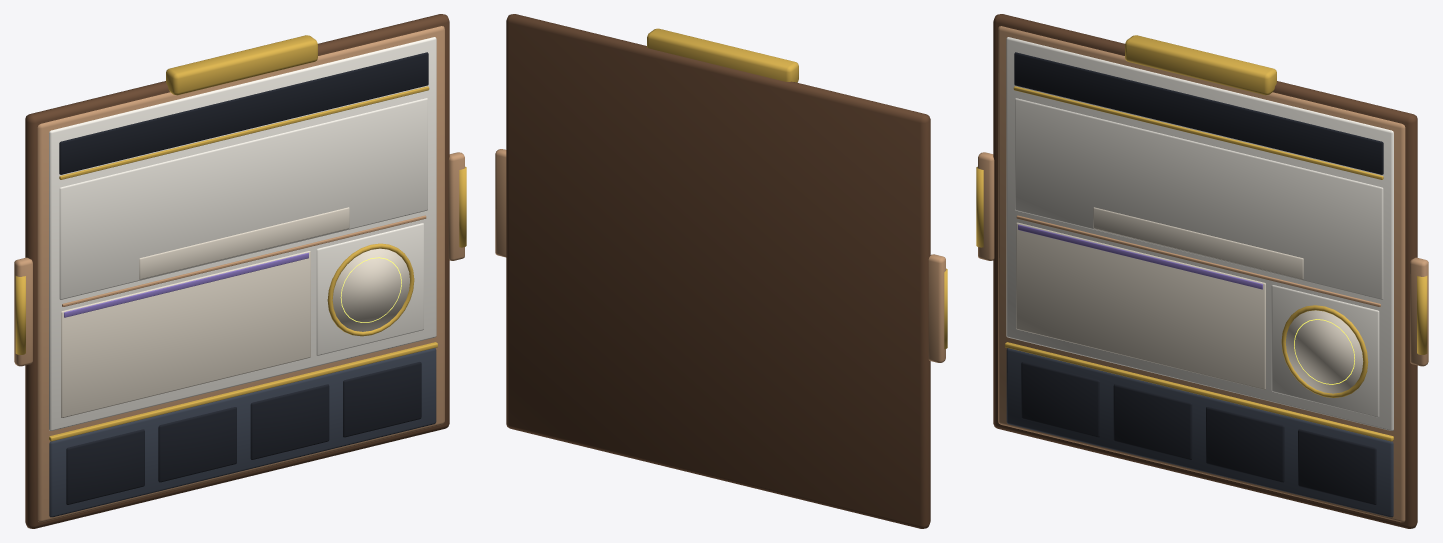
Rendered from Doc_DecisionPaper_Expanded.fbx.
The picture shows the model from 3 angles, left to right: view 1: azimuth 30°, elevation 25°; view 2: azimuth 150°, elevation 25°; view 3: azimuth 330°, elevation 25°; orthographic projection.
Visible parts, largest first — view 1: Folio_CreamCeramic, Folio_WarmBeige, Folio_CharcoalVisor, Folio_PaperWarm, Folio_WarmWood, Folio_DarkWood, Folio_FeltSlate, Folio_Brass, Folio_Researcher_Lavender; view 2: Folio_DarkWood, Folio_Brass, Folio_WarmWood; view 3: Folio_CreamCeramic, Folio_WarmBeige, Folio_CharcoalVisor, Folio_PaperWarm, Folio_WarmWood, Folio_DarkWood, Folio_FeltSlate, Folio_Brass, Folio_Researcher_Lavender.
Boxes of the visible parts, left/top/right/bottom form: Folio_CreamCeramic: left=59, top=98, right=427, bottom=355; Folio_WarmBeige: left=61, top=207, right=409, bottom=417; Folio_CharcoalVisor: left=59, top=52, right=428, bottom=504; Folio_PaperWarm: left=49, top=37, right=436, bottom=430; Folio_WarmWood: left=14, top=26, right=464, bottom=522; Folio_DarkWood: left=25, top=14, right=449, bottom=528; Folio_FeltSlate: left=49, top=348, right=436, bottom=517; Folio_Brass: left=15, top=35, right=466, bottom=441; Folio_Researcher_Lavender: left=64, top=252, right=308, bottom=317; Folio_DarkWood: left=506, top=14, right=930, bottom=528; Folio_Brass: left=647, top=28, right=947, bottom=349; Folio_WarmWood: left=495, top=149, right=945, bottom=362; Folio_CreamCeramic: left=1015, top=98, right=1383, bottom=417; Folio_WarmBeige: left=1016, top=207, right=1363, bottom=393; Folio_CharcoalVisor: left=1014, top=52, right=1383, bottom=504; Folio_PaperWarm: left=1006, top=37, right=1393, bottom=430; Folio_WarmWood: left=978, top=26, right=1428, bottom=522; Folio_DarkWood: left=993, top=14, right=1417, bottom=528; Folio_FeltSlate: left=1006, top=348, right=1393, bottom=517; Folio_Brass: left=976, top=35, right=1427, bottom=441; Folio_Researcher_Lavender: left=1018, top=224, right=1262, bottom=289.
Size of the model in its own units: 34.14 by 31 by 1.8.
